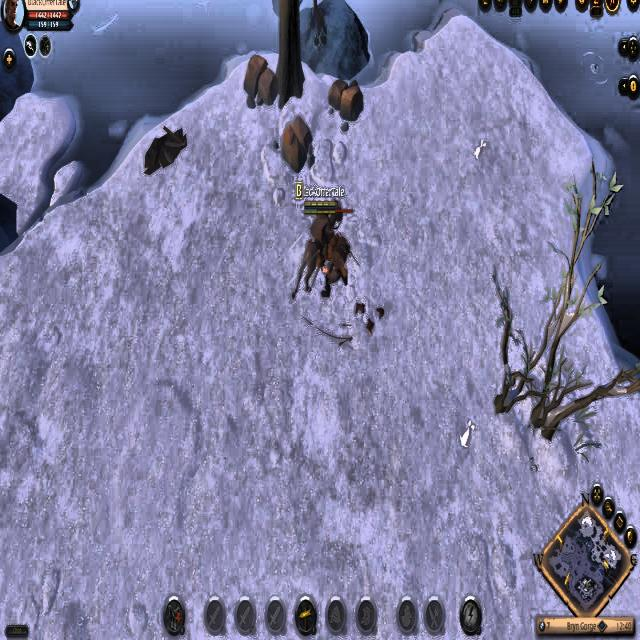limestone: (278, 109, 315, 172), (241, 55, 281, 107), (326, 75, 366, 123)
